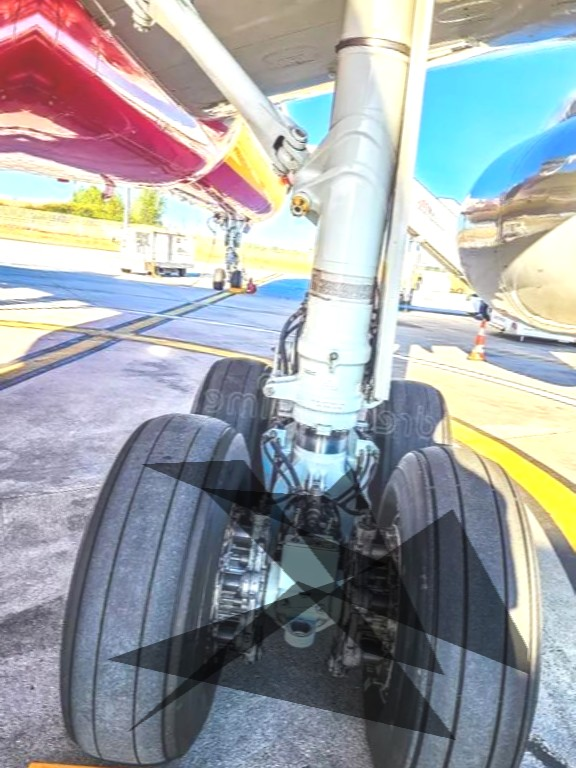chock: (229, 285, 244, 297)
wheel: (48, 402, 260, 768), (342, 438, 565, 768), (180, 350, 281, 501), (364, 375, 457, 513), (213, 267, 228, 291), (230, 269, 245, 289)
